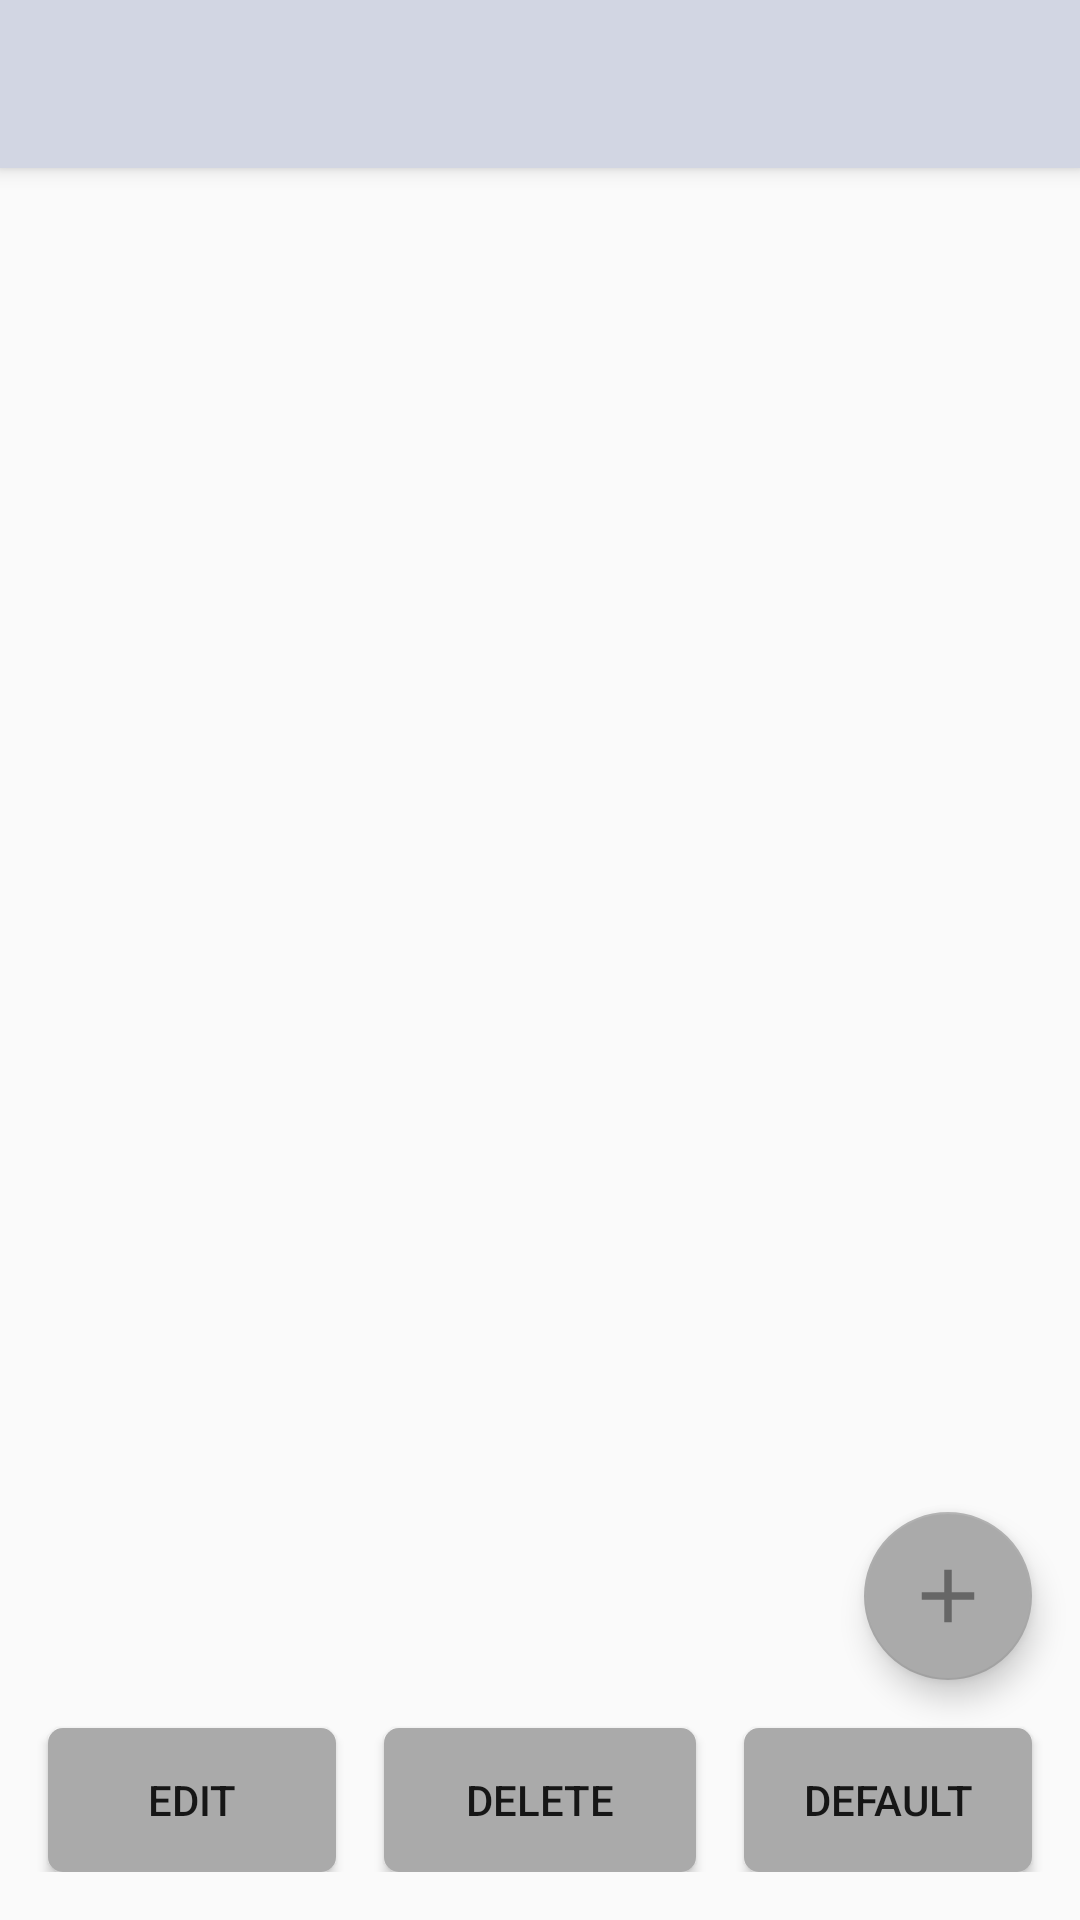

Icon bounding boxes for this 1080px×1920px phone screenshot, format (x1, y1, x2, y2):
add fab main: (864, 1512, 1032, 1680)
